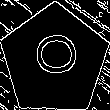O_W: (30, 39, 80, 82)
